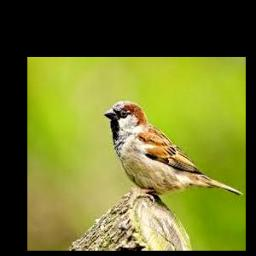Sparrow: (103, 100, 243, 204)
